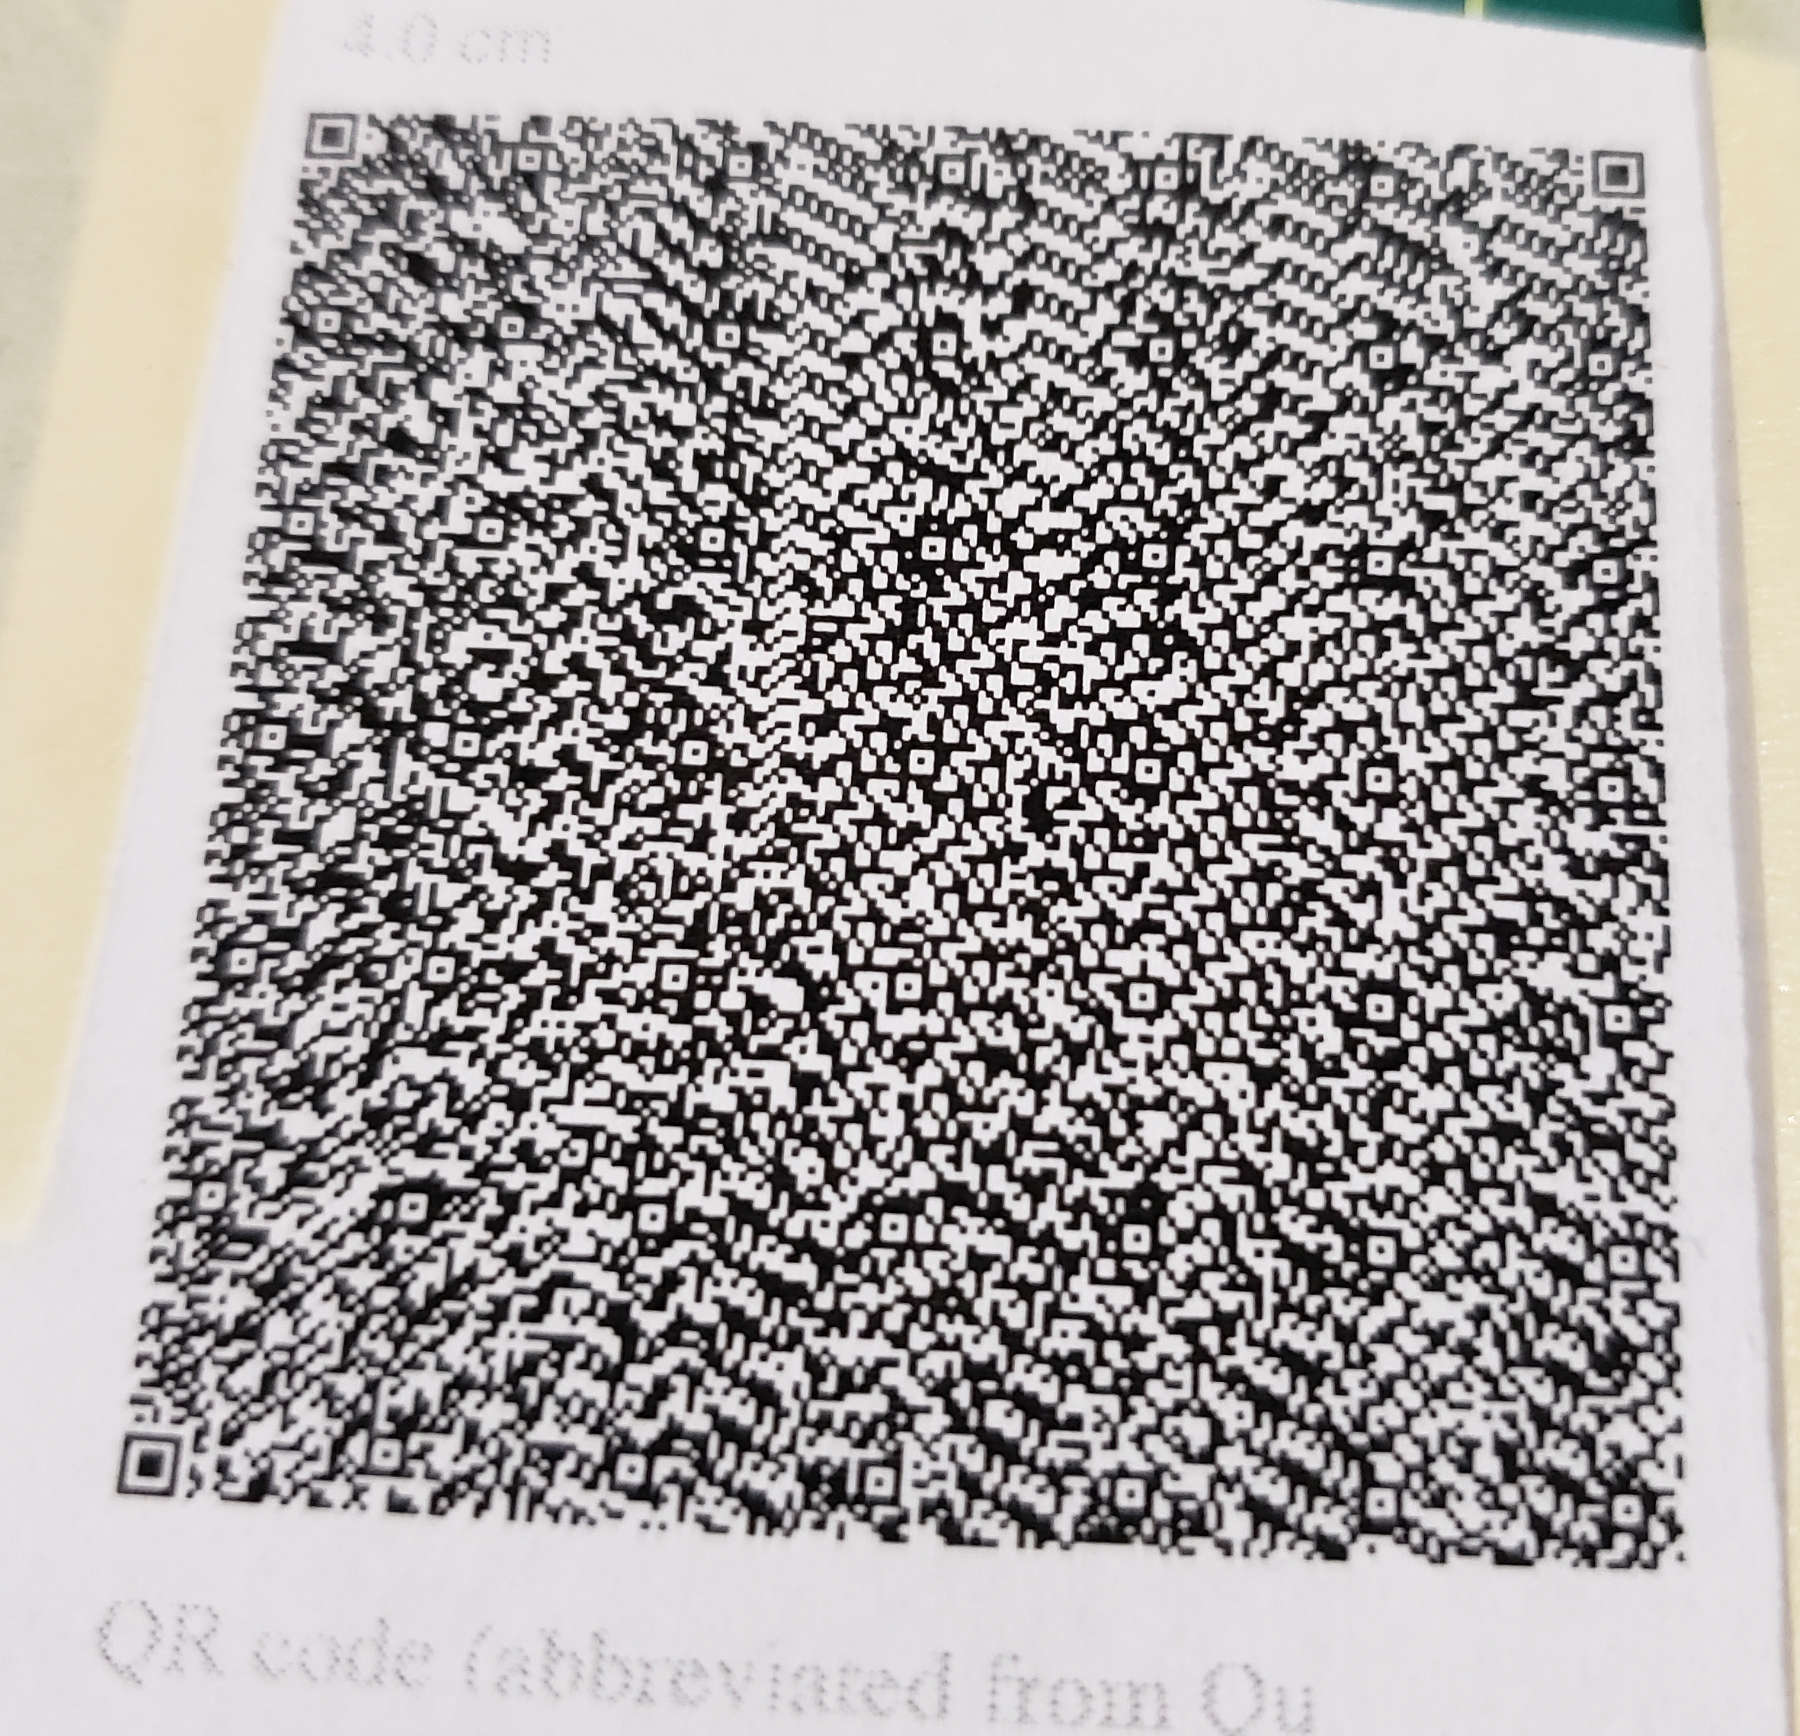QR_CODE: (85, 43, 1745, 1615)
